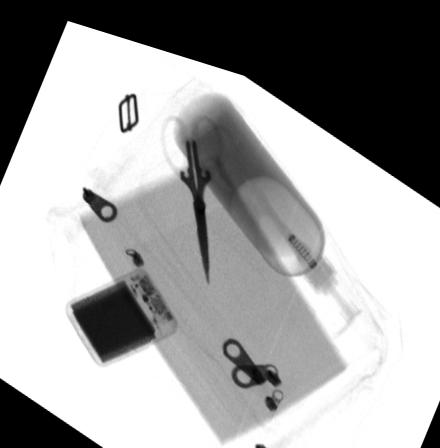Powerbank: (65, 257, 178, 359)
Scissors: (158, 99, 225, 277)
